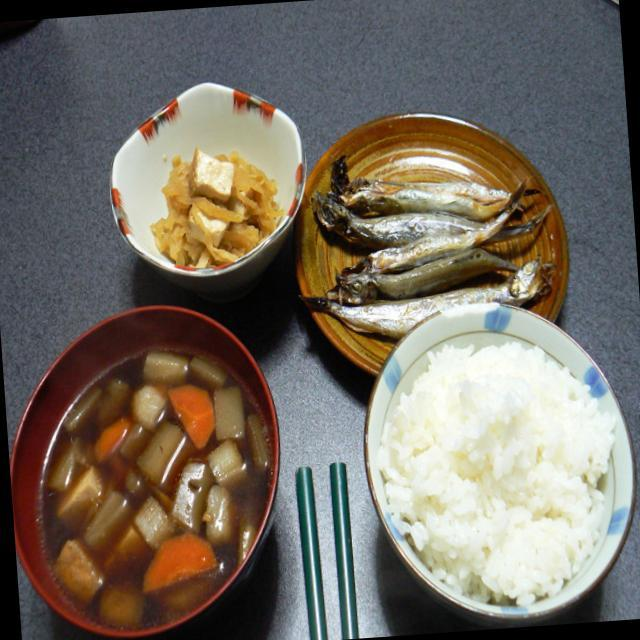Rice: (372, 322, 627, 618)
